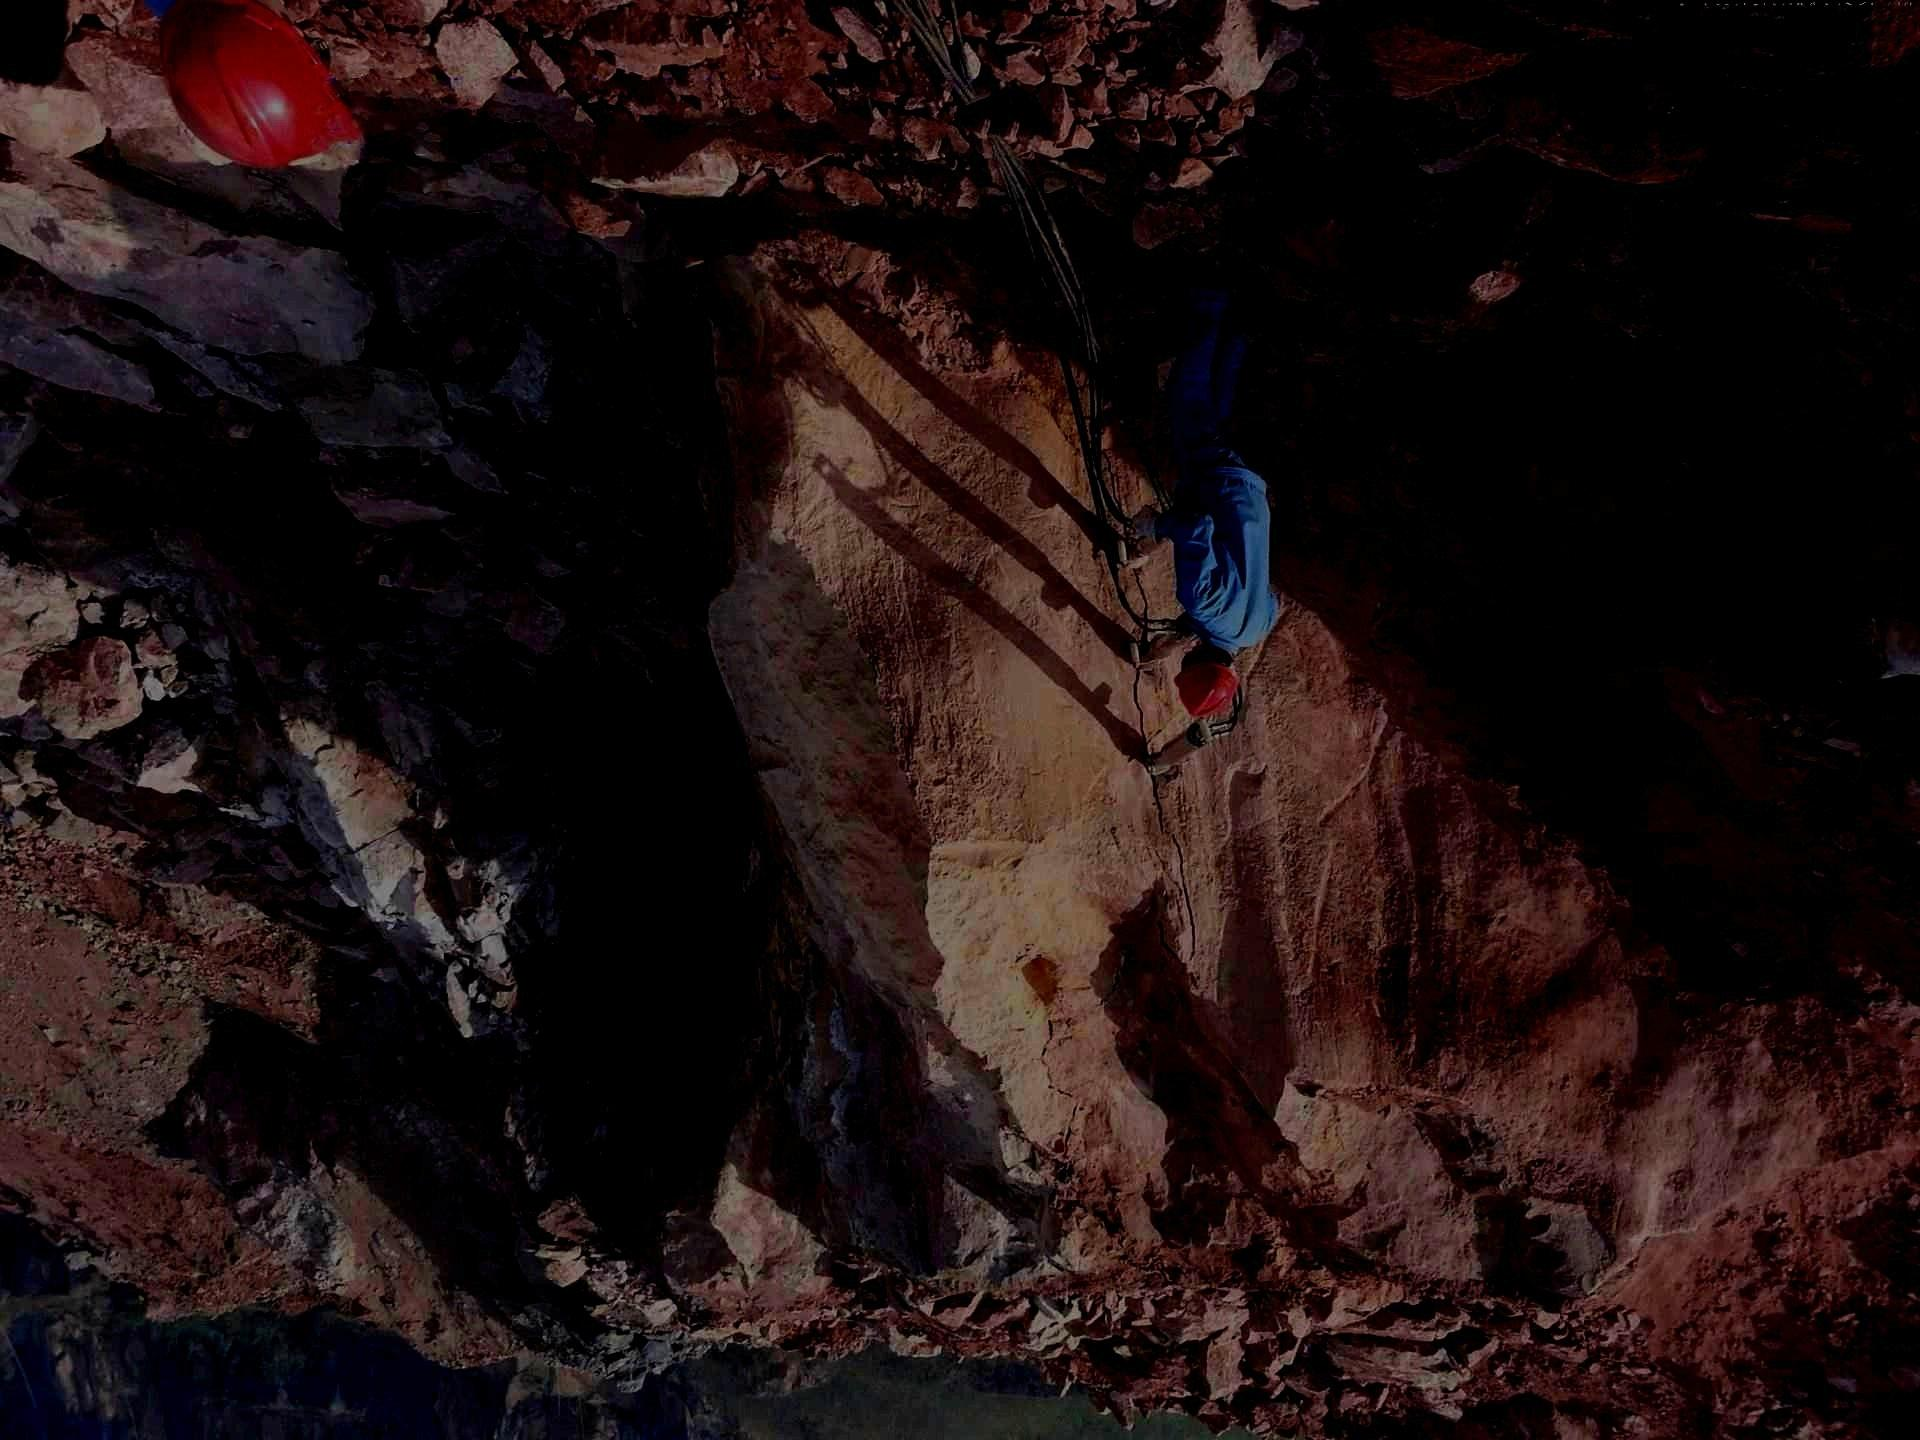helmet: (159, 2, 366, 169), (1173, 638, 1240, 718)
